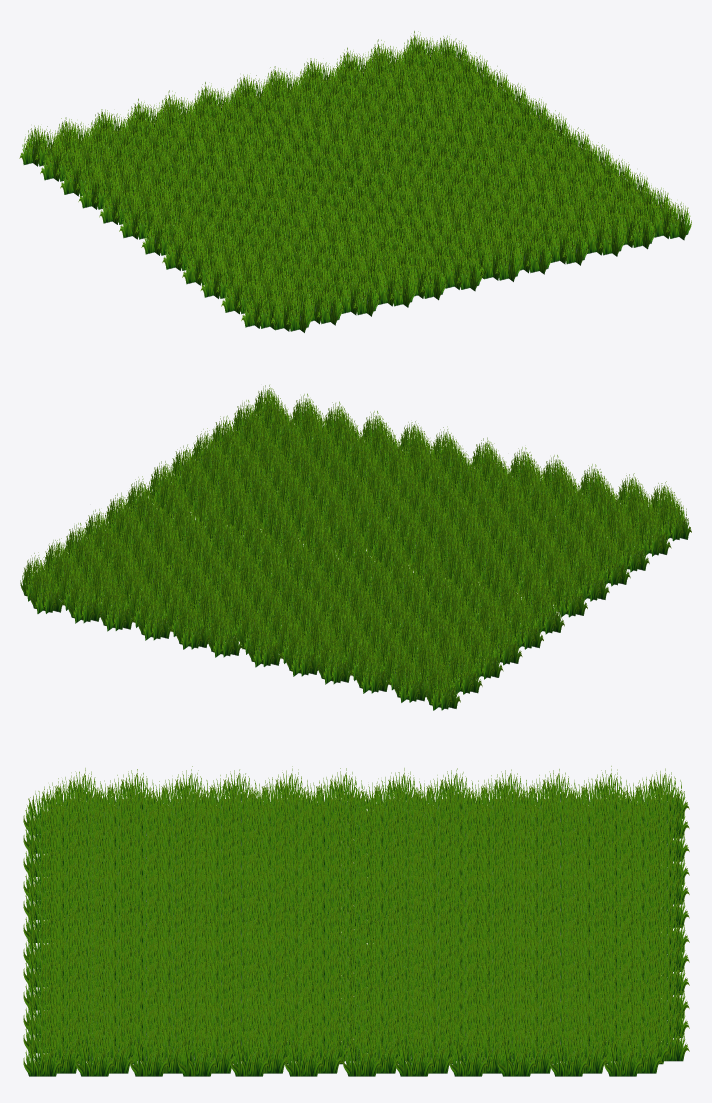
File: green_field_greener.glb
3 renders of one model, top to bottom at view 1: azimuth 30°, elevation 25°; view 2: azimuth 150°, elevation 25°; view 3: azimuth 270°, elevation 25°, orthographic. The views are drawn at different scales.
Parts seen in each view (by area): view 1: 78f67a44e13965ae3008bbb284401925.000_78f67a44e13965ae3008bbb; view 2: 78f67a44e13965ae3008bbb284401925.000_78f67a44e13965ae3008bbb; view 3: 78f67a44e13965ae3008bbb284401925.000_78f67a44e13965ae3008bbb.
Part boxes in pixels (x1=…): 78f67a44e13965ae3008bbb284401925.000_78f67a44e13965ae3008bbb: x1=19, y1=31, x2=691, y2=332; 78f67a44e13965ae3008bbb284401925.000_78f67a44e13965ae3008bbb: x1=20, y1=385, x2=691, y2=710; 78f67a44e13965ae3008bbb284401925.000_78f67a44e13965ae3008bbb: x1=23, y1=766, x2=689, y2=1076.
Bounding box in the file's own units: 16.35 × 1.58 × 16.56.
Materials: 1 (1 with a texture image).
